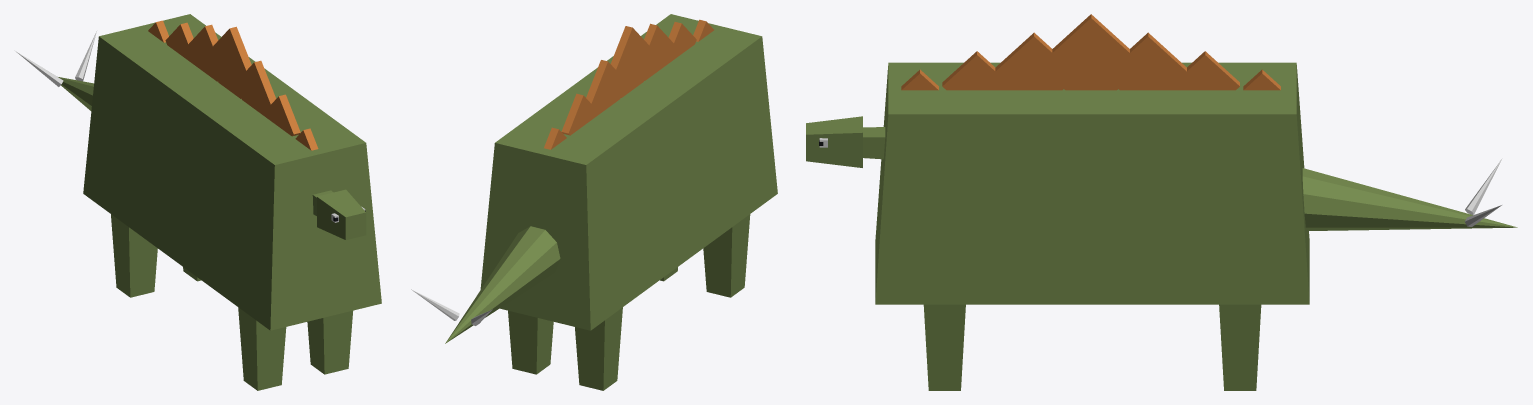
Rendered from stegosaurus.glb.
3 views of the same model, side by side, from view 1: azimuth 30°, elevation 25°; view 2: azimuth 150°, elevation 25°; view 3: azimuth 270°, elevation 25° (orthographic). The views are drawn at different scales.
Visible parts, largest first — view 1: stegosaurus; view 2: stegosaurus; view 3: stegosaurus.
Part boxes in pixels (box(x1,y1,x2,y2)): stegosaurus: box(15, 14, 381, 390); stegosaurus: box(411, 14, 777, 390); stegosaurus: box(806, 14, 1517, 390).
Size of the model in its own units: 1.1 by 2.84 by 5.25.
